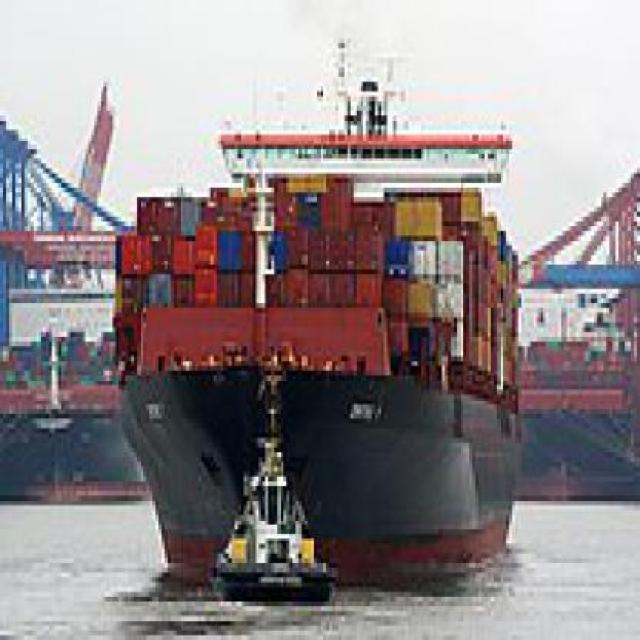container: (104, 25, 544, 588)
